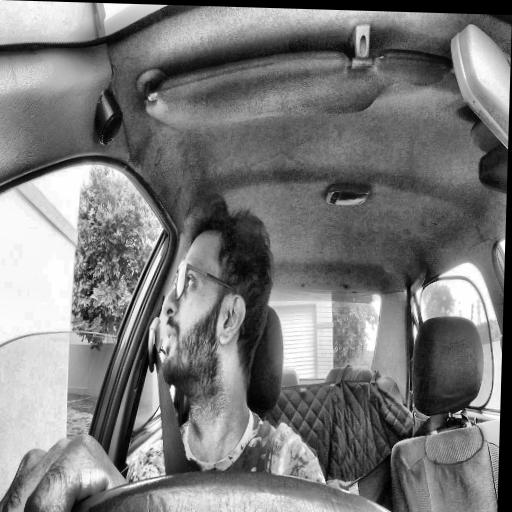awake: (158, 191, 275, 409)
